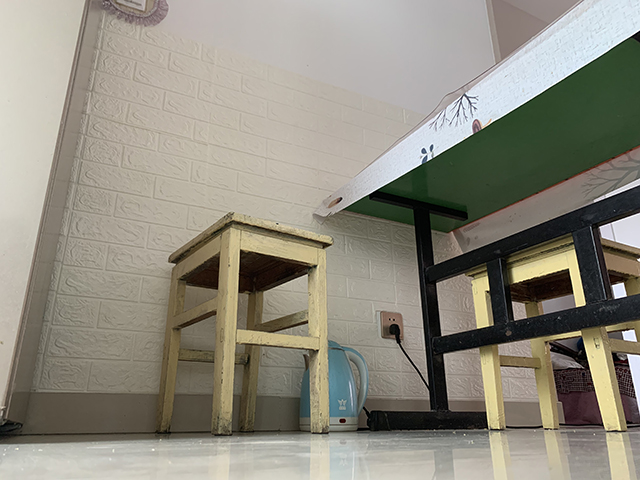stool: (153, 210, 335, 436), (464, 233, 640, 433)
table: (313, 1, 640, 433)
wire: (386, 320, 428, 394)
